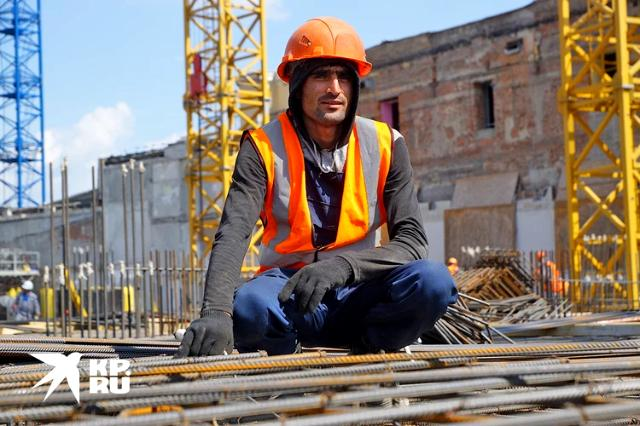helmet: (273, 15, 379, 68)
vest: (237, 113, 403, 261)
